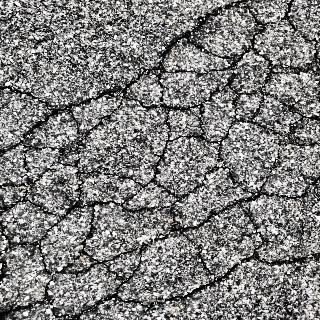alligator-crack: (0, 0, 319, 320), (17, 75, 213, 318), (146, 0, 320, 201), (159, 133, 320, 300)
